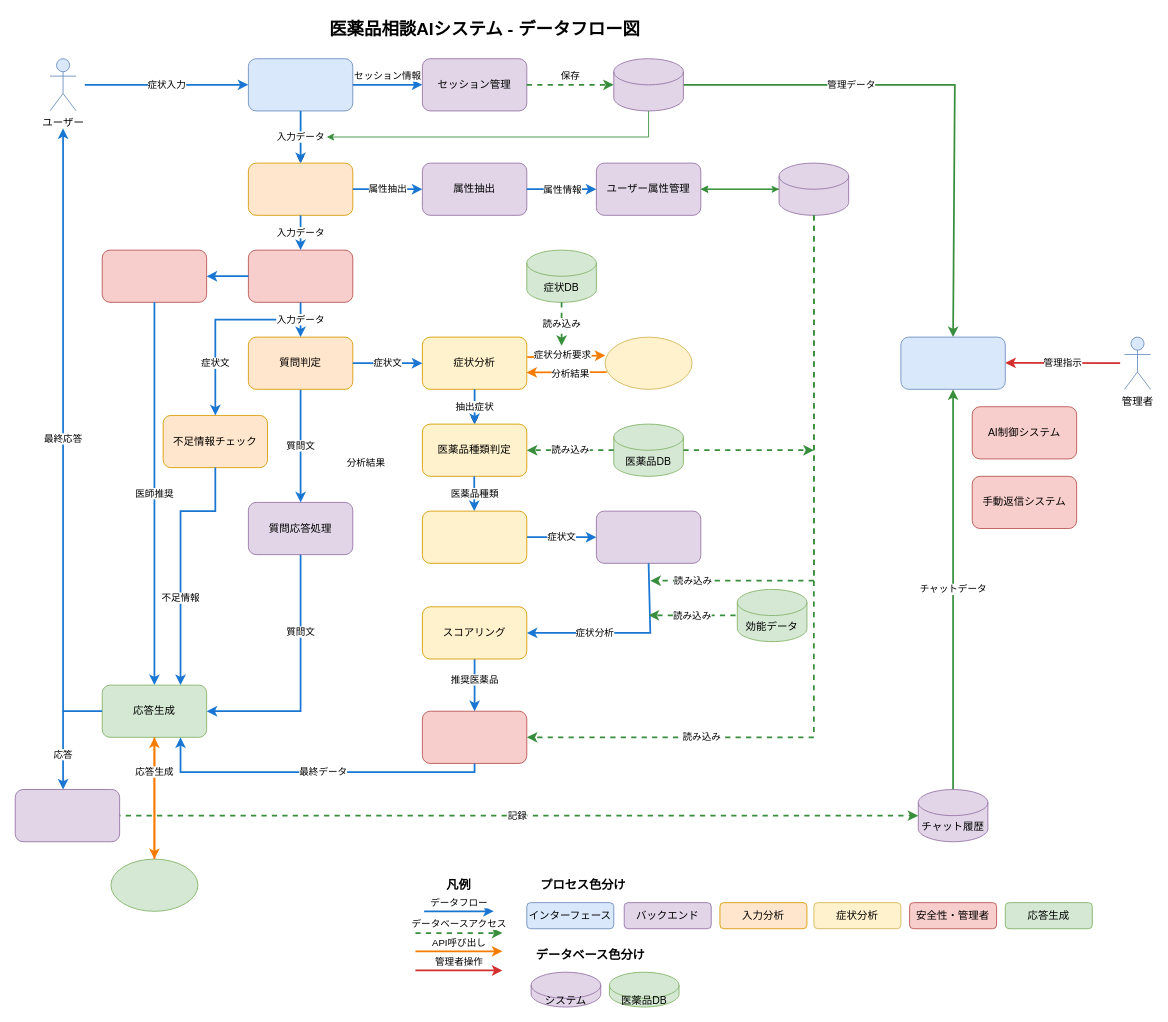
The diagram is 1168 pixels wide and 1022 high, and some of its shapes have lost their labels. Each missing label, with the box of its shape:
NLU処理: (596, 510, 701, 563)
OpenAI API: (604, 336, 692, 389)
エスカレーション判定: (248, 249, 353, 302)
セッション データ: (613, 58, 683, 111)
ユーザー インターフェース: (248, 58, 353, 111)
ユーザー属性データ: (778, 162, 849, 215)
ログ記録: (14, 789, 120, 842)
入力分類器: (248, 162, 353, 215)
医師相談推奨: (101, 249, 207, 302)
医薬品推奨システム: (422, 510, 527, 563)
大規模言語モデル API: (110, 858, 198, 911)
安全性チェック: (422, 710, 527, 763)
管理者 インターフェース: (900, 336, 1005, 389)
